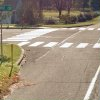crosswalk: (19, 41, 100, 49), (69, 27, 100, 30)
